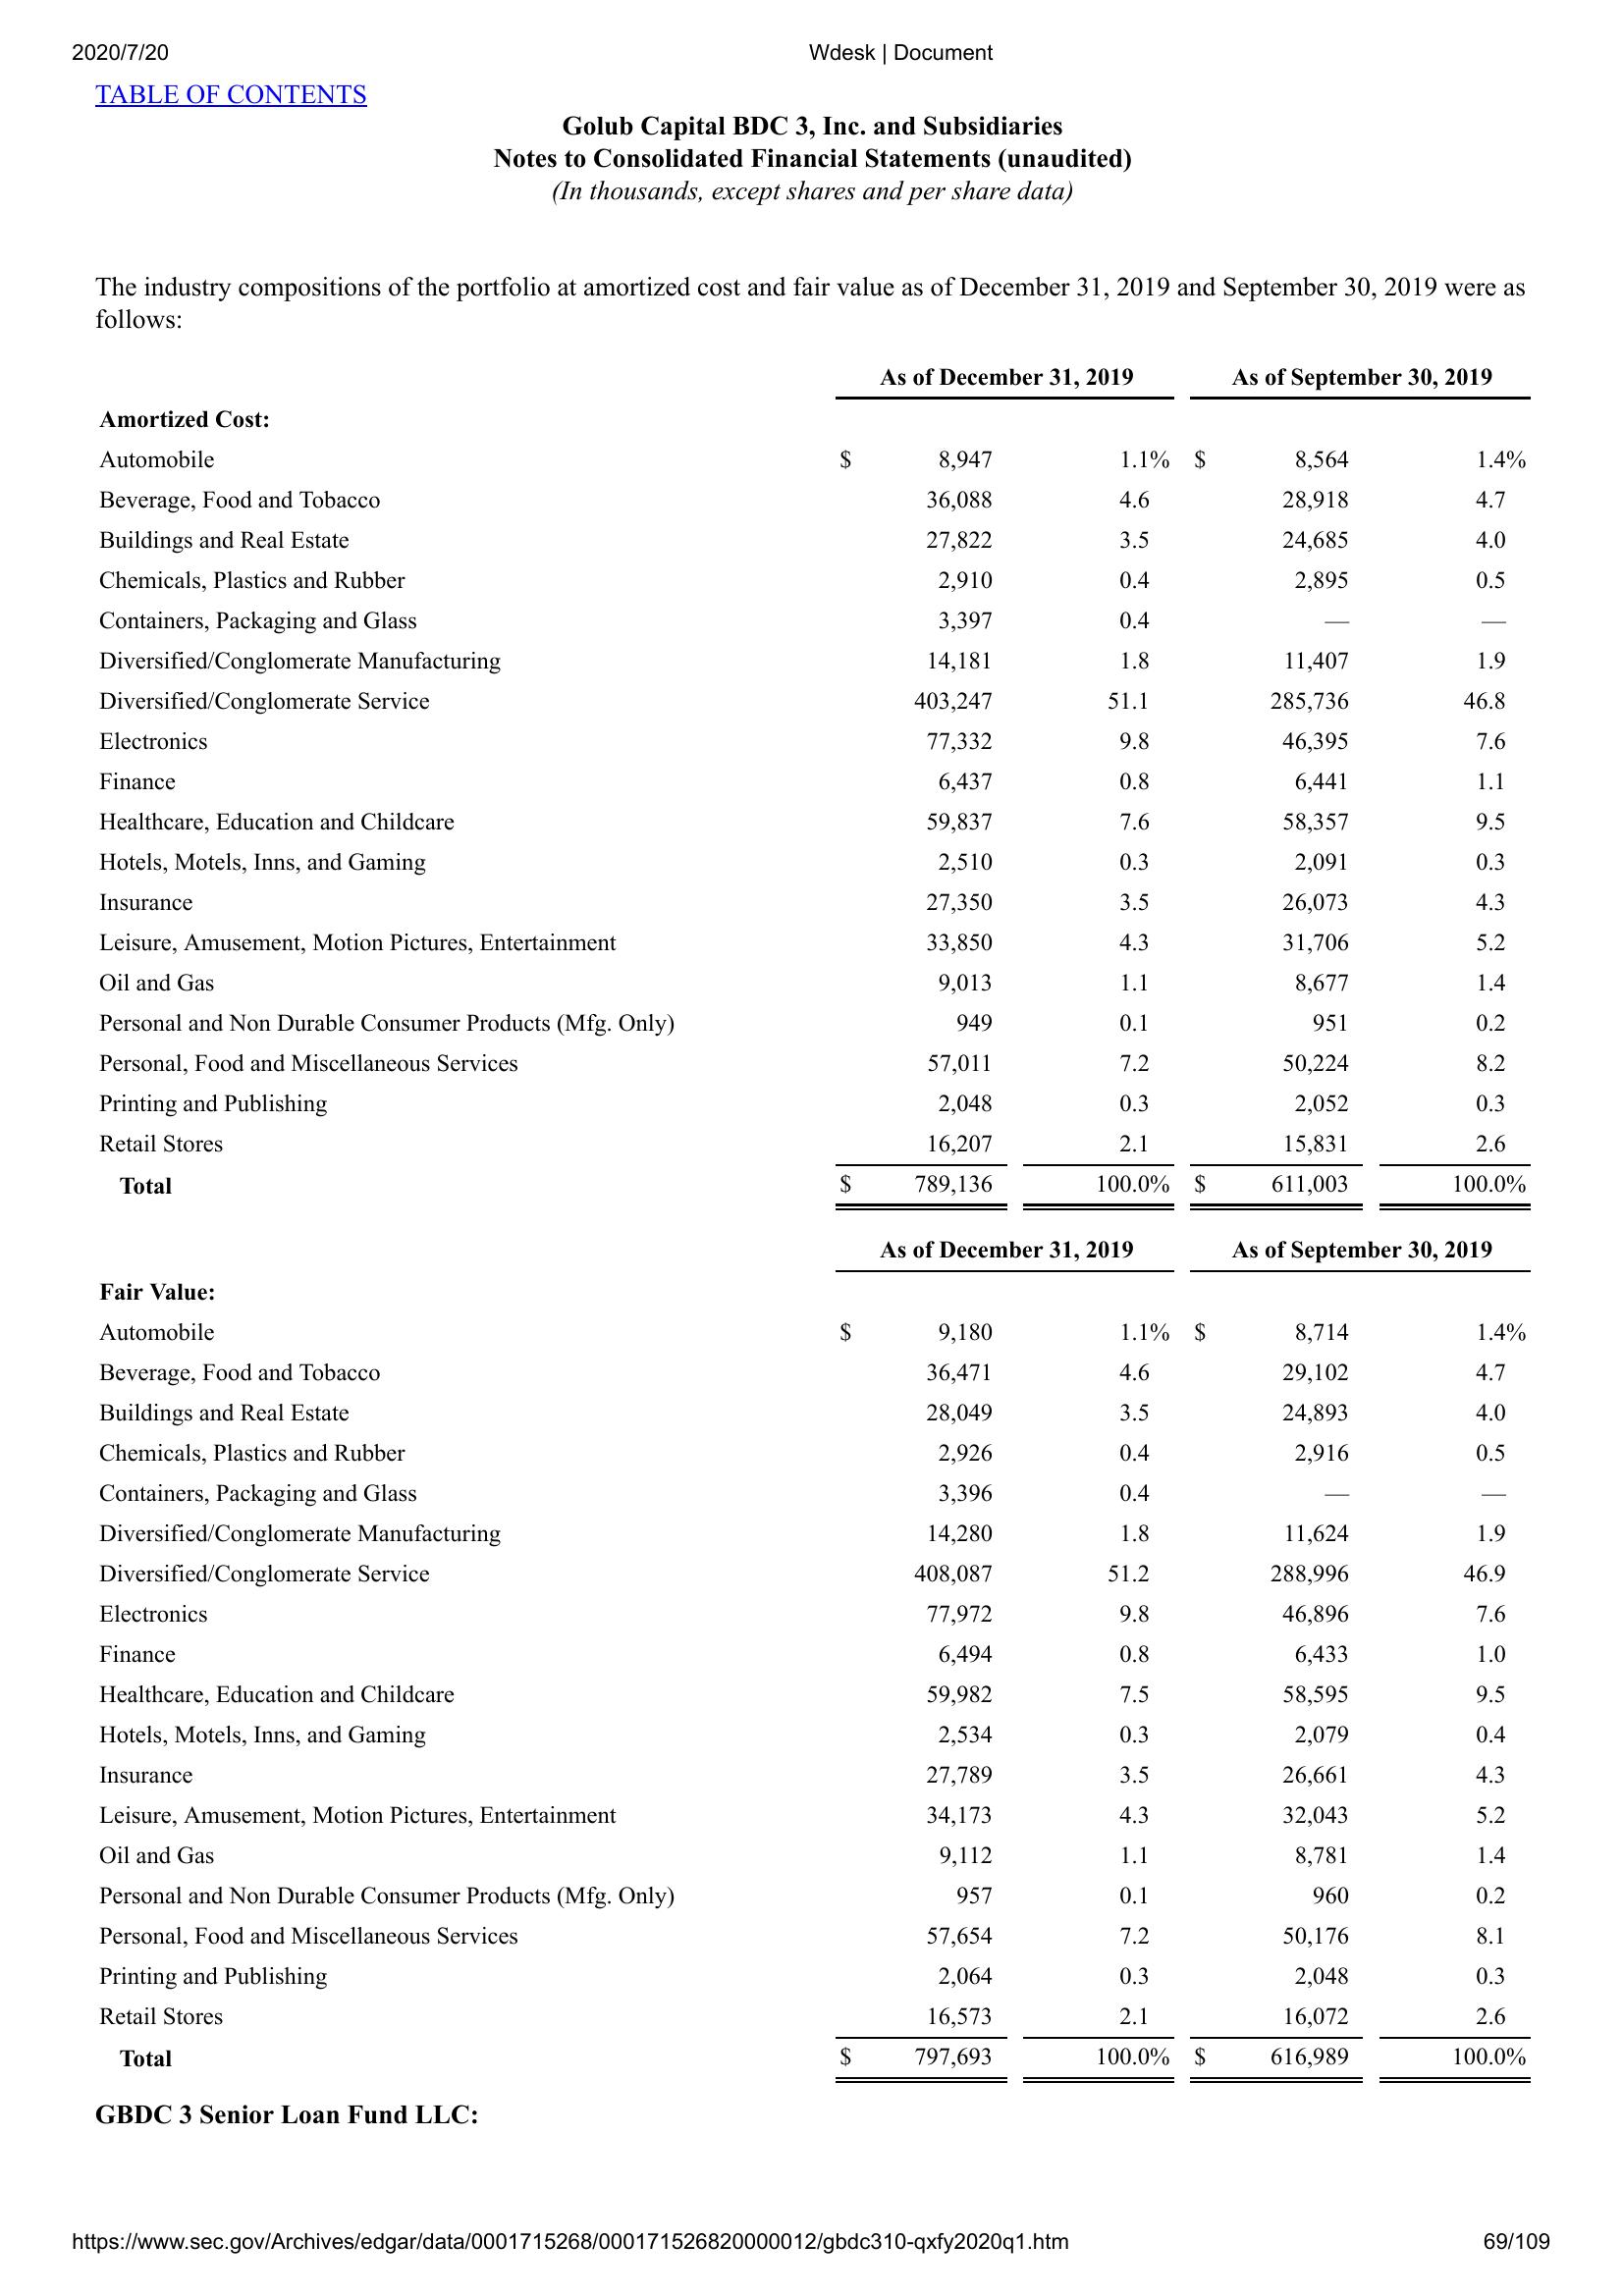table: (90, 1225, 1546, 2092), (93, 356, 1554, 1220)
